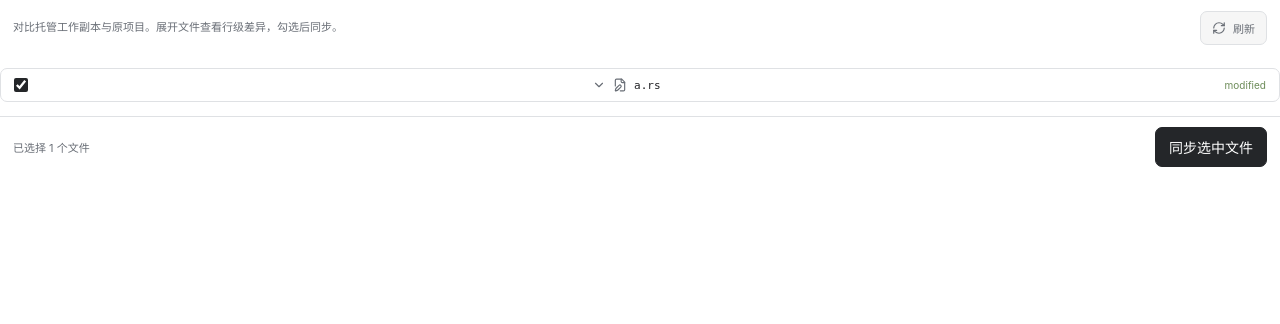
改动审阅视图（右侧面板） › 宿主拒绝过期审阅时保留错误且不声称已同步
The width and height of the screenshot is (1280, 324).
Expected: the text "a.rs" is shown, [634,78,660,92]
Click the button "a.rs". click: x=626, y=85
box: [36,78,1217,92]
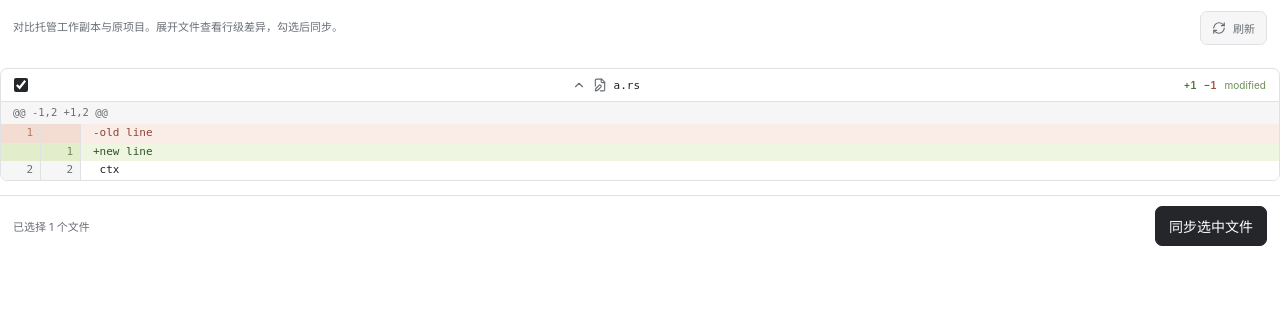
Result: the text "+new line" is shown at [93,144,153,158]
Click the button "同步选中文件". click: x=1211, y=226
box: [1155,206,1267,246]
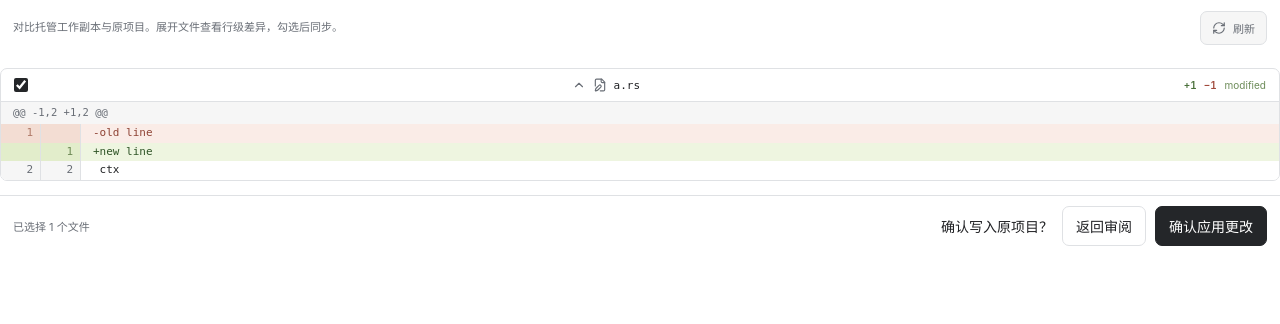
Click the button "确认应用更改". click: x=1211, y=226
box: [1155,206,1267,246]
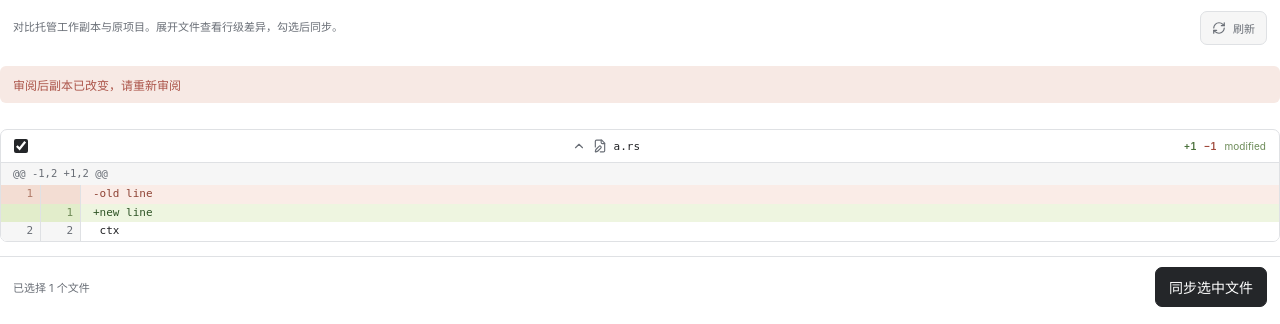
Result: the text "+new line" is shown at [93,206,153,218]
Result: the text "审阅后副本已改变，请重新审阅" is shown at [0,66,1279,103]
